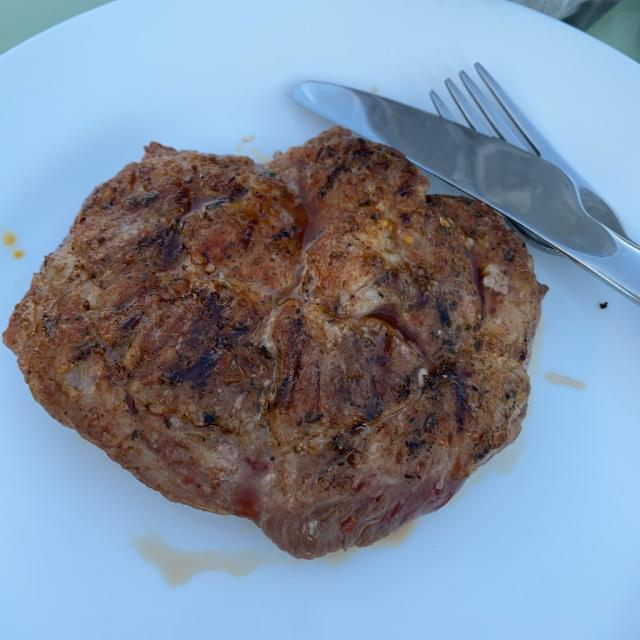pork-roast: (20, 135, 530, 547)
